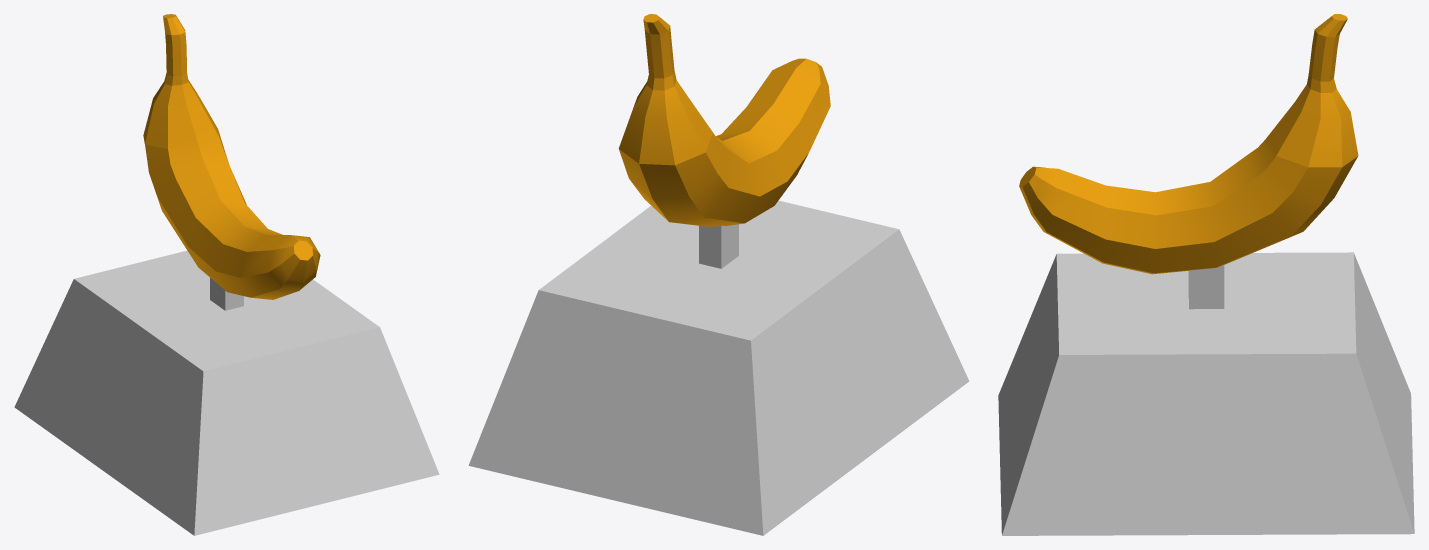
Rendered from GoingBananas.fbx.
3 renders of one model, left to right at view 1: azimuth 30°, elevation 25°; view 2: azimuth 150°, elevation 25°; view 3: azimuth 270°, elevation 25°, orthographic. The views are drawn at different scales.
Visible parts, largest first — view 1: Cylinder.024; view 2: Cylinder.024; view 3: Cylinder.024.
Boxes of the visible parts, <box> form: Cylinder.024: <box>14,14,439,535</box>; Cylinder.024: <box>468,14,969,535</box>; Cylinder.024: <box>998,14,1414,535</box>.
Bounding box in the file's own units: 110 × 162 × 136.
